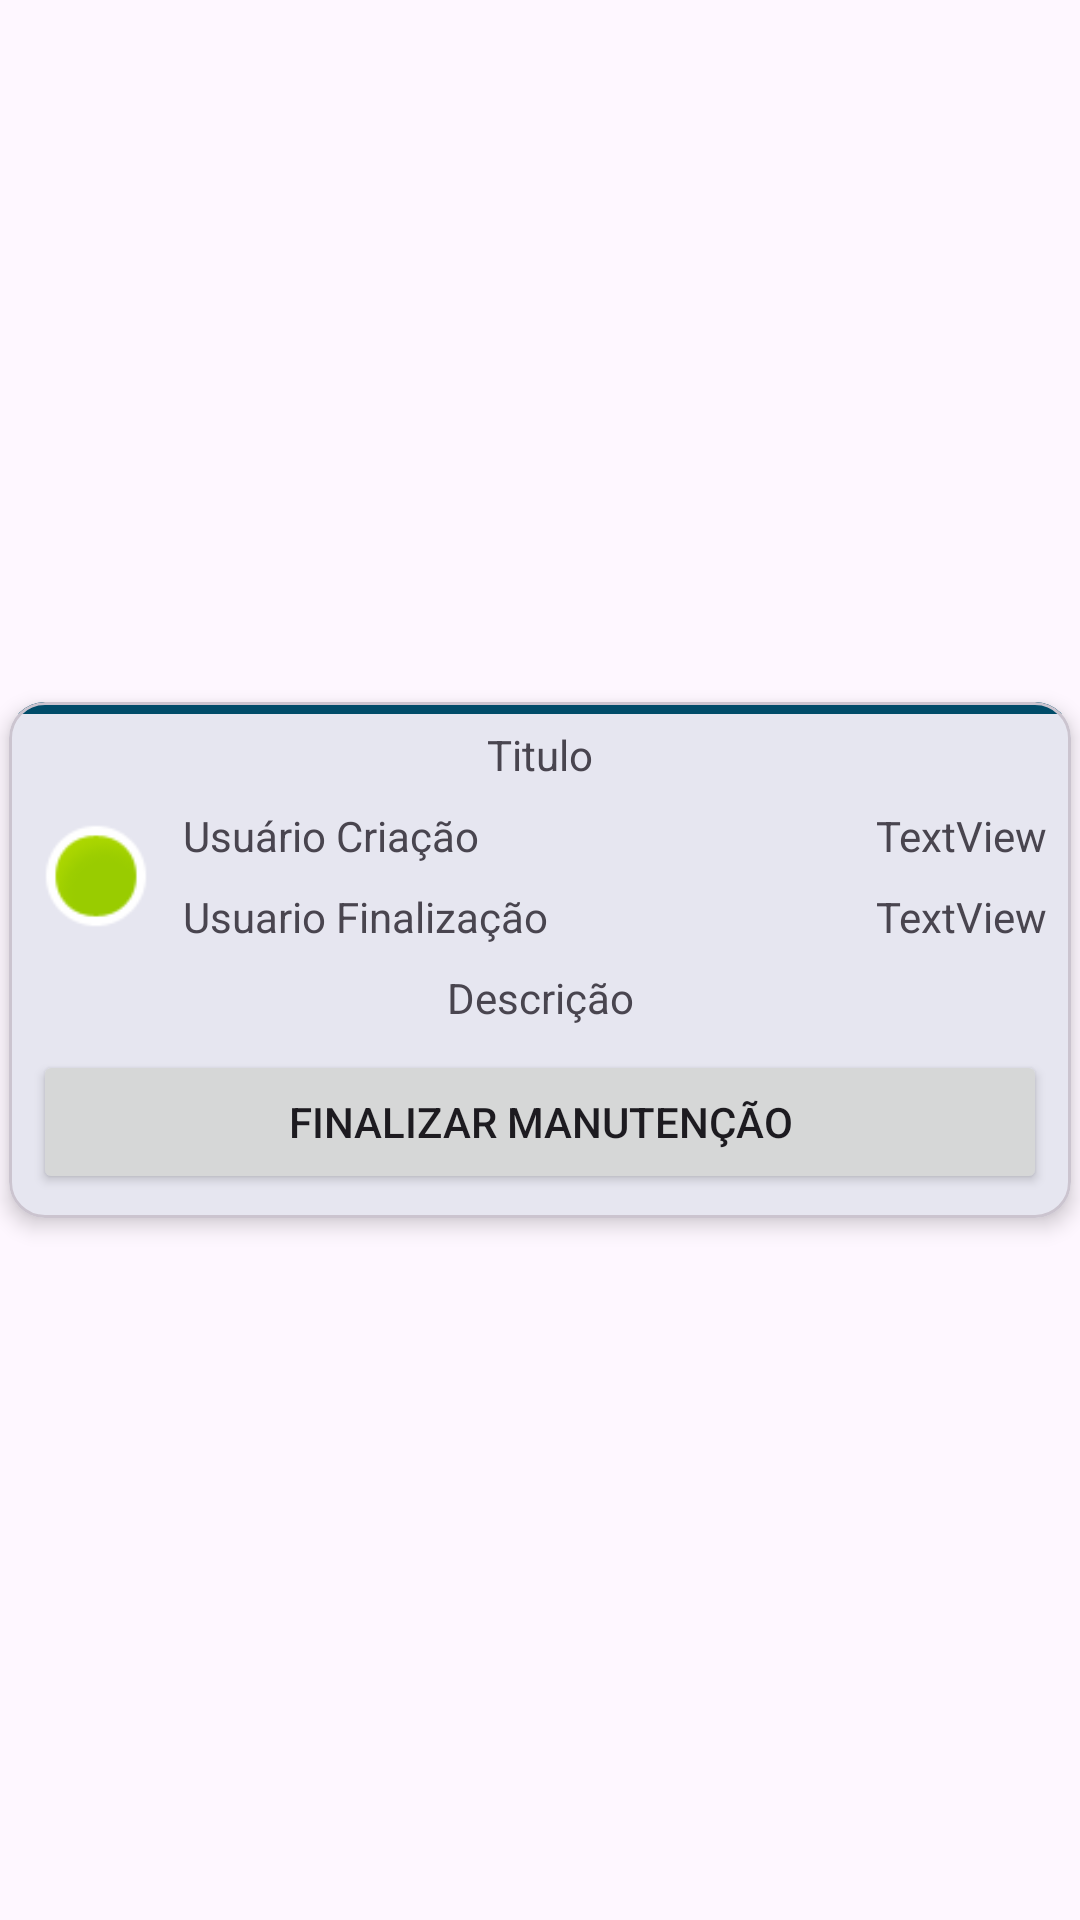

Where icons sit on this 1080px x 1920px app screen, as {"left": x1, "top": y1, "right": x2, "bottom": y2}:
presence online: {"left": 48, "top": 827, "right": 144, "bottom": 925}
